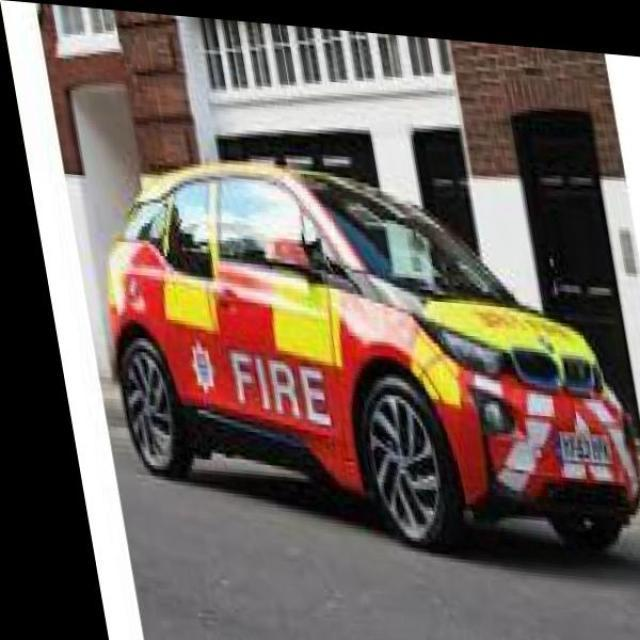emergency: (106, 153, 638, 554)
